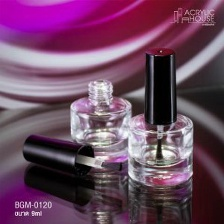bottle: (124, 109, 195, 192), (69, 150, 133, 224), (68, 78, 134, 147), (128, 189, 199, 224)
